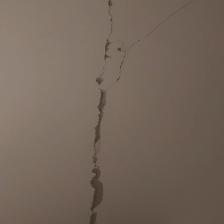Medium: (77, 2, 168, 222)
